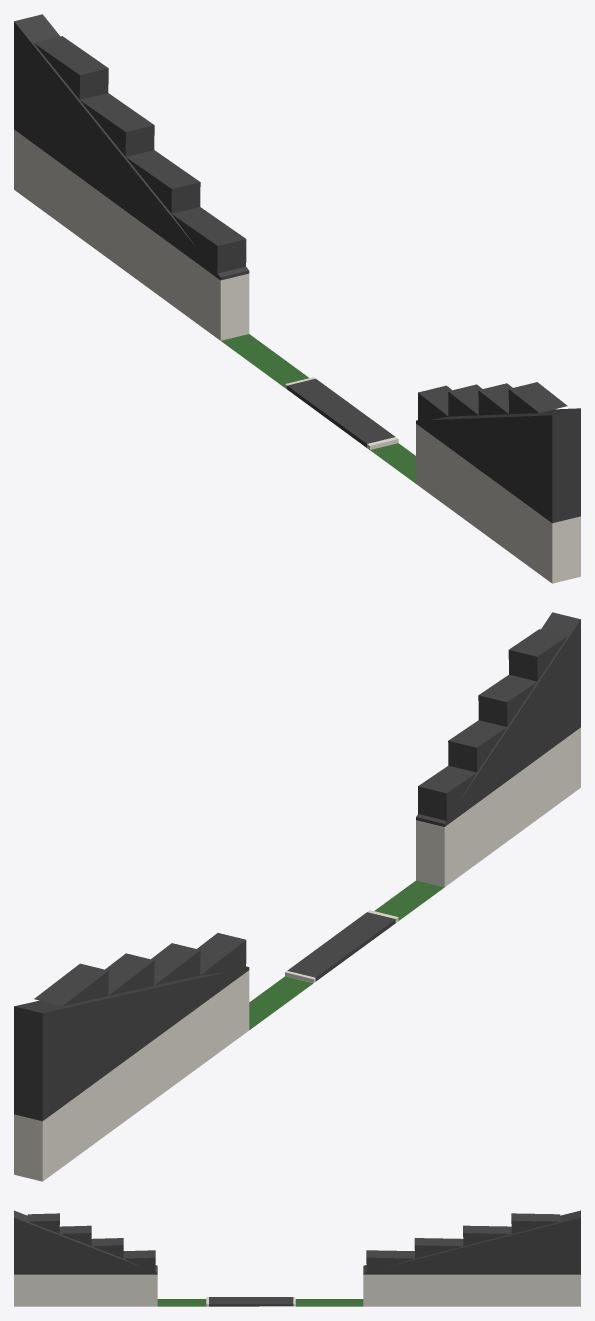
The model's file is StarightTRACK3.fbx.
3 views of the same model, one above another, from view 1: azimuth 30°, elevation 25°; view 2: azimuth 150°, elevation 25°; view 3: azimuth 270°, elevation 25° (orthographic). The views are drawn at different scales.
Parts seen in each view (by area): view 1: outer_Paltform.002, outer_Stadium.002, outer_Stadium.001, outer_Paltform.001, outer_Seats.001, outer_Seats.002, staright; view 2: outer_Paltform.002, outer_Stadium.002, outer_Paltform.001, outer_Stadium.001, outer_Seats.002, outer_Seats.001, staright; view 3: outer_Paltform.002, outer_Stadium.002, outer_Paltform.001, outer_Stadium.001, outer_Seats.001, outer_Seats.002, staright.
Part boxes in pixels (x1,y1,x2,y2): outer_Paltform.002: (14,129,308,387); outer_Stadium.002: (14,14,249,280); outer_Stadium.001: (416,408,580,523); outer_Paltform.001: (370,424,580,583); outer_Seats.001: (34,36,246,273); outer_Seats.002: (418,382,567,420); staright: (285,377,398,449); outer_Paltform.002: (14,970,312,1181); outer_Stadium.002: (14,966,249,1121); outer_Paltform.001: (374,727,580,920); outer_Stadium.001: (416,612,580,826); outer_Seats.002: (418,629,567,822); outer_Seats.001: (34,933,246,1005); staright: (285,910,398,983); outer_Paltform.002: (295,1274,580,1306); outer_Stadium.002: (363,1210,580,1274); outer_Paltform.001: (14,1274,206,1306); outer_Stadium.001: (14,1210,157,1274); outer_Seats.001: (366,1213,560,1272); outer_Seats.002: (27,1213,155,1271); staright: (206,1297,295,1306).
Bounding box in the file's own units: 1000 × 5614 × 32516.
